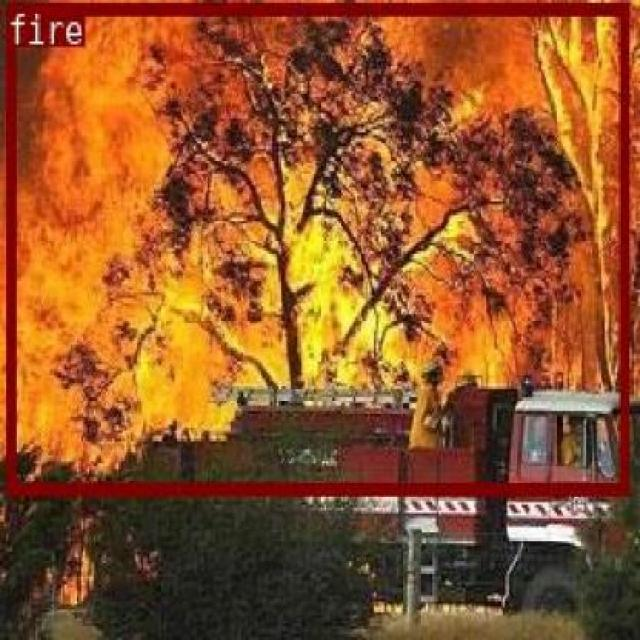Fire: (4, 0, 627, 494)
